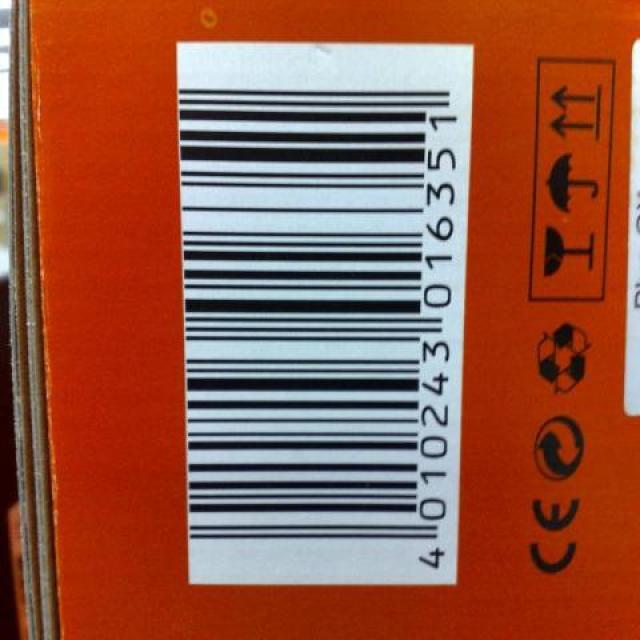Barcode: (177, 41, 474, 595)
